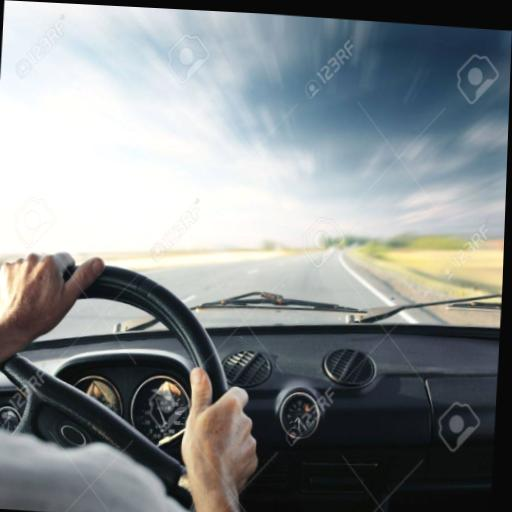Hands-on-the-Wheel: (157, 363, 290, 495), (0, 224, 120, 344)
